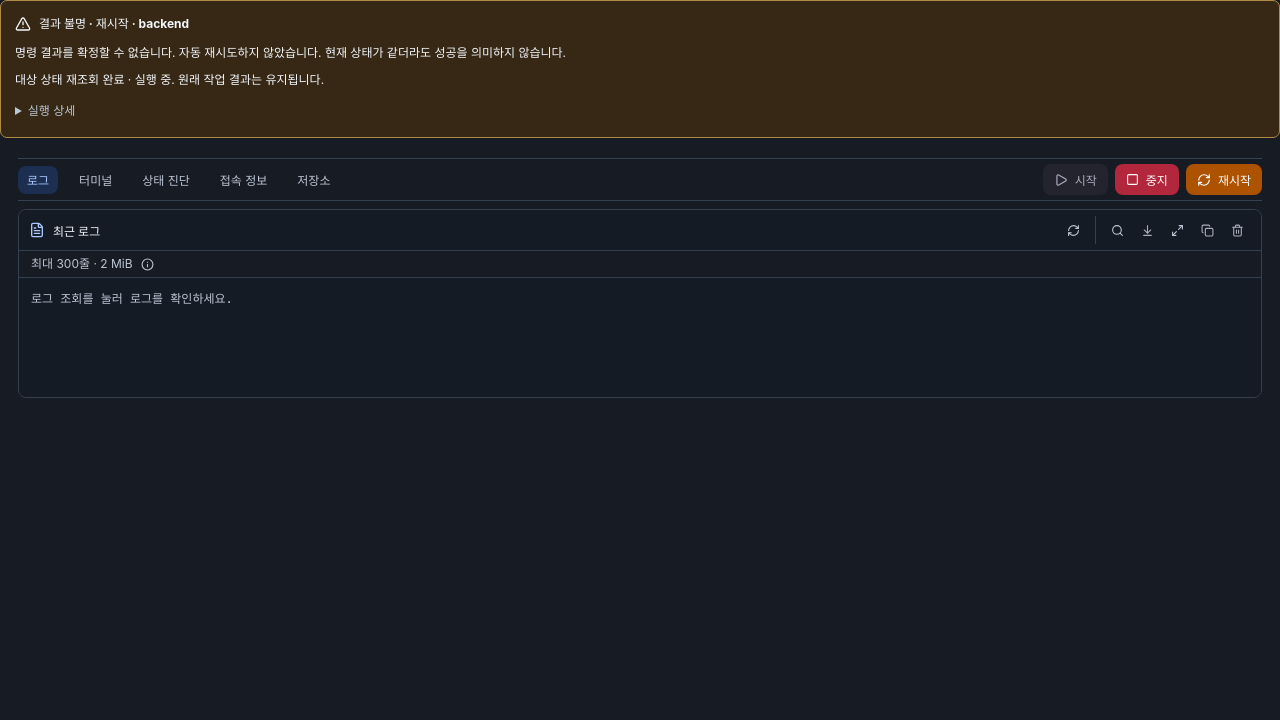
it: compact operation details › keeps result uncertainty visible while native messages, command and identity remain in collapsed details
This screenshot has width=1280, height=720.
Expected: the heading "결과 불명 · 재시작 · backend" is shown, [15,16,189,32]
Expected: the text "자동 재시도하지 않았습니다" is shown, [15,45,566,60]
Click the heading "실행 상세".
click(51, 110)  # box [28,103,75,118]
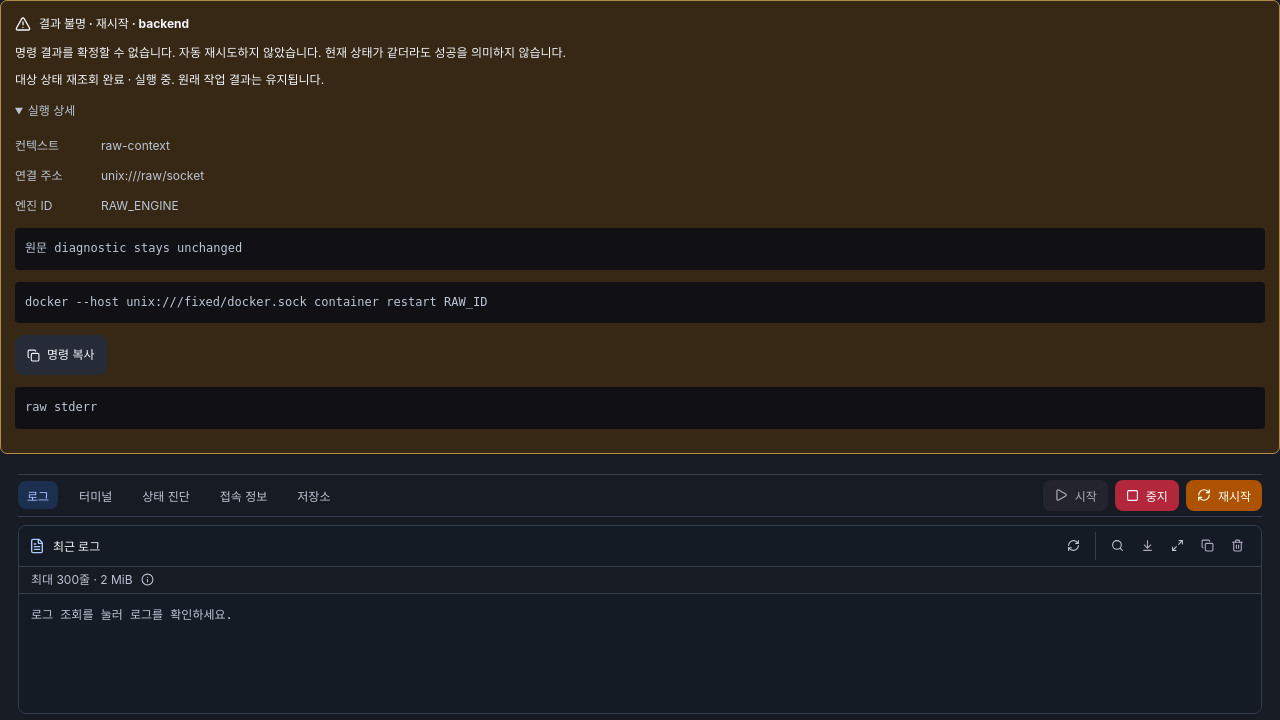
Result: the text "원문 diagnostic stays unchanged" is shown at [15,228,1265,270]
Result: the text "docker --host unix:///fixed/docker.sock container restart RAW_ID" is shown at [15,282,1265,323]
Result: the text "RAW_ENGINE" is shown at [101,198,179,213]
